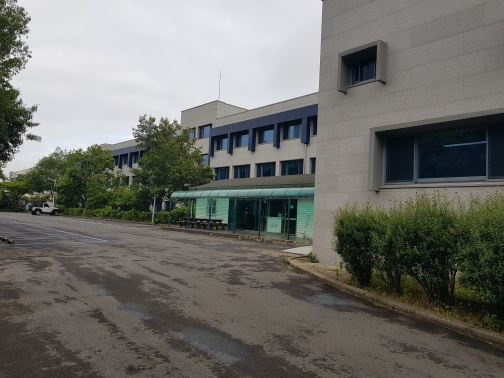College of Social Sciences: (74, 1, 504, 281), (206, 111, 313, 158)
